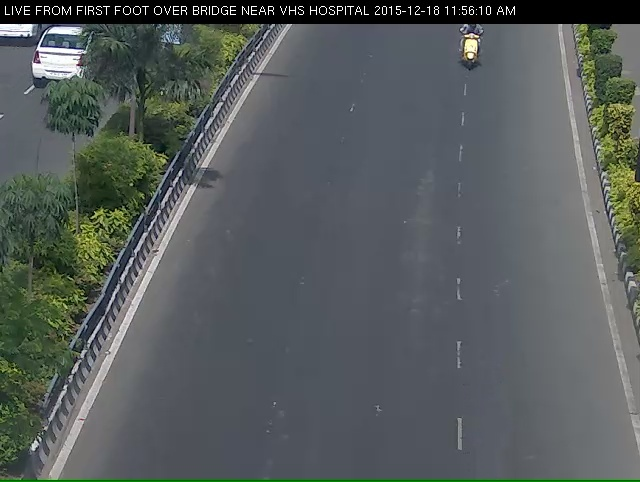Person: (454, 22, 489, 85)
